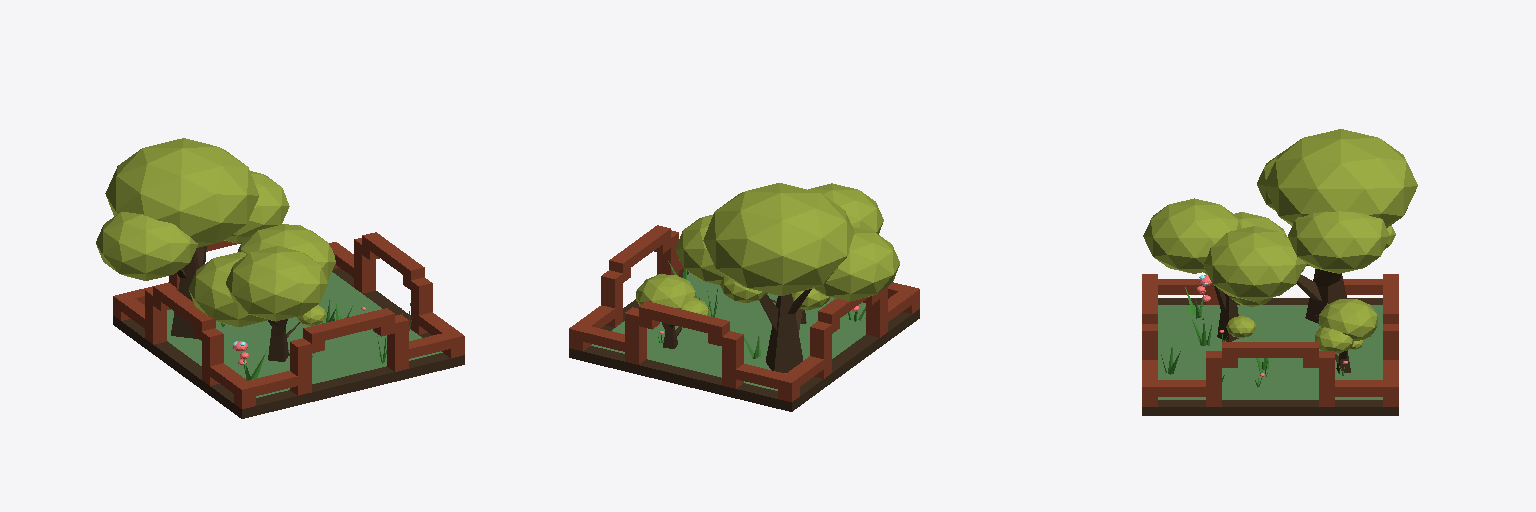
The model's file is Garden Filled.obj.
3 renders of one model, left to right at view 1: azimuth 30°, elevation 25°; view 2: azimuth 150°, elevation 25°; view 3: azimuth 270°, elevation 25°, orthographic.
Parts seen in each view (by area): view 1: Garden Filled; view 2: Garden Filled; view 3: Garden Filled.
Part boxes in pixels (bbox=[...]): Garden Filled: bbox=[96, 138, 464, 418]; Garden Filled: bbox=[569, 183, 919, 411]; Garden Filled: bbox=[1142, 129, 1417, 415].
Bounding box in the file's own units: 1.88 × 1.23 × 1.61.